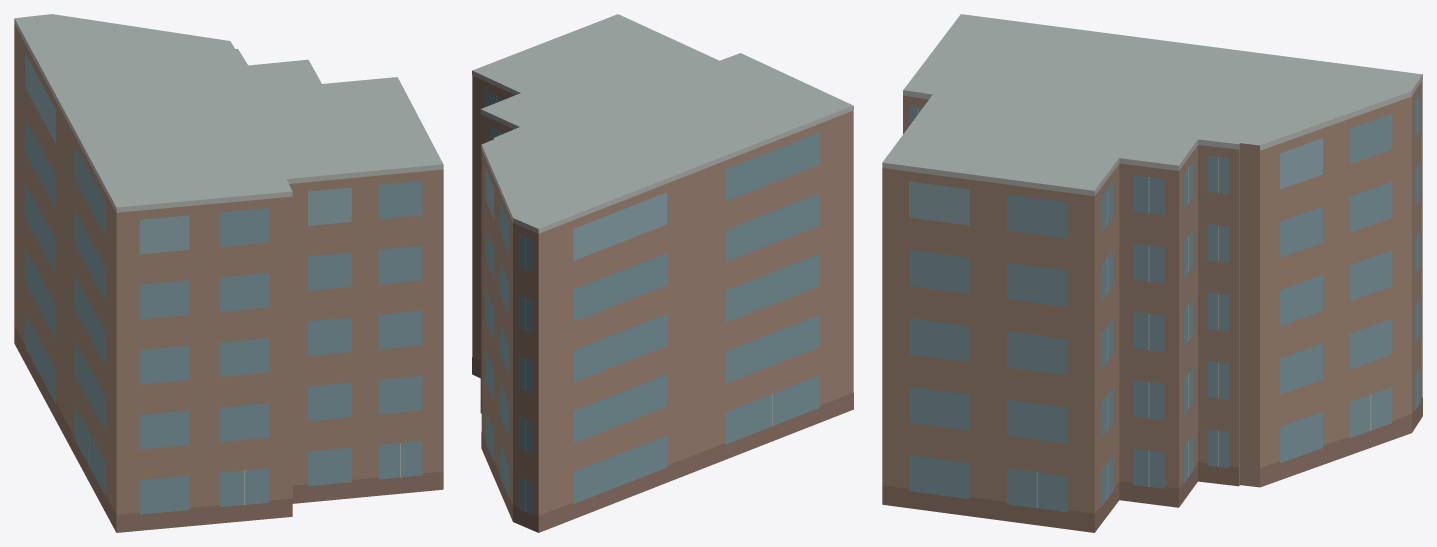
The model's file is survey-upis-32872880.glb.
3 renders of one model, left to right at view 1: azimuth 30°, elevation 25°; view 2: azimuth 150°, elevation 25°; view 3: azimuth 270°, elevation 25°, orthographic. The views are drawn at different scales.
Visible parts, largest first — view 1: survey-upis-32872880.tmp; view 2: survey-upis-32872880.tmp; view 3: survey-upis-32872880.tmp.
Part boxes in pixels (x1,y1,x2,y2): survey-upis-32872880.tmp: (14,14,443,532); survey-upis-32872880.tmp: (472,14,853,532); survey-upis-32872880.tmp: (882,14,1422,532).
Bounding box in the file's own units: 17.2 × 15.5 × 22.21.
